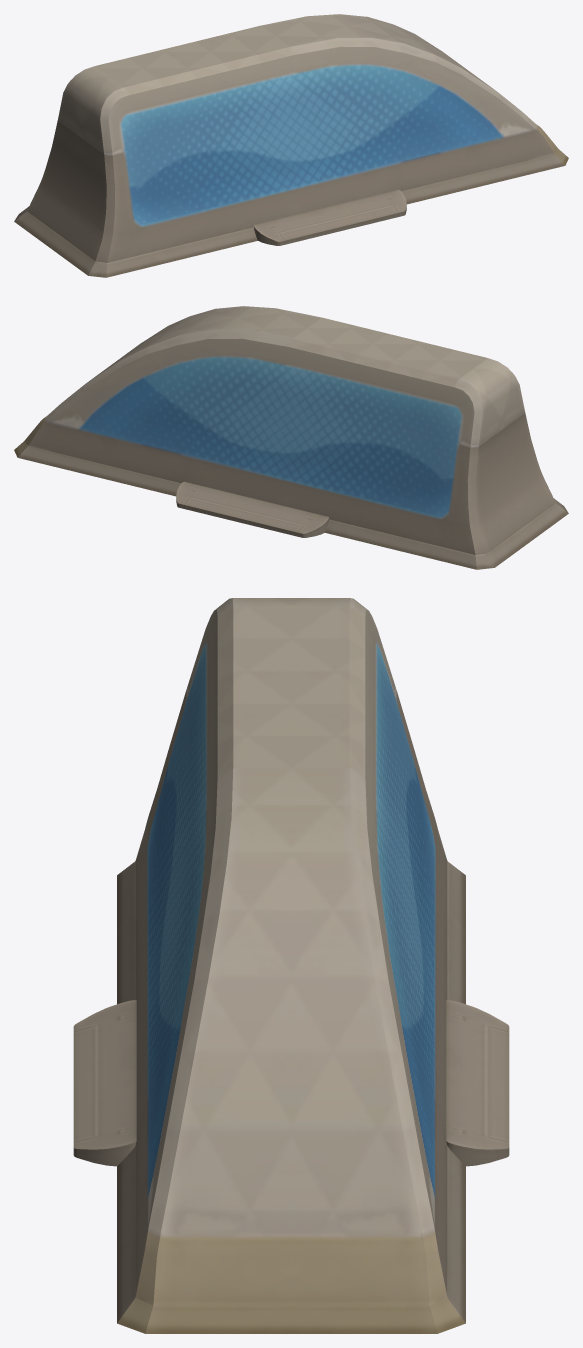
Rendered from pref_sm_beach_techobstacle07b_lv3.fbx.
The picture shows the model from 3 angles, top to bottom: view 1: azimuth 30°, elevation 25°; view 2: azimuth 150°, elevation 25°; view 3: azimuth 270°, elevation 25°; orthographic projection. The views are drawn at different scales.
Visible parts, largest first — view 1: pref_sm_beach_techobstacle07b_lv3; view 2: pref_sm_beach_techobstacle07b_lv3; view 3: pref_sm_beach_techobstacle07b_lv3.
Part boxes in pixels (x1,y1,x2,y2): pref_sm_beach_techobstacle07b_lv3: (14,14,568,277); pref_sm_beach_techobstacle07b_lv3: (14,306,568,569); pref_sm_beach_techobstacle07b_lv3: (73,598,509,1333).
Size of the model in its own units: 5.44 by 1.7 by 2.13.
